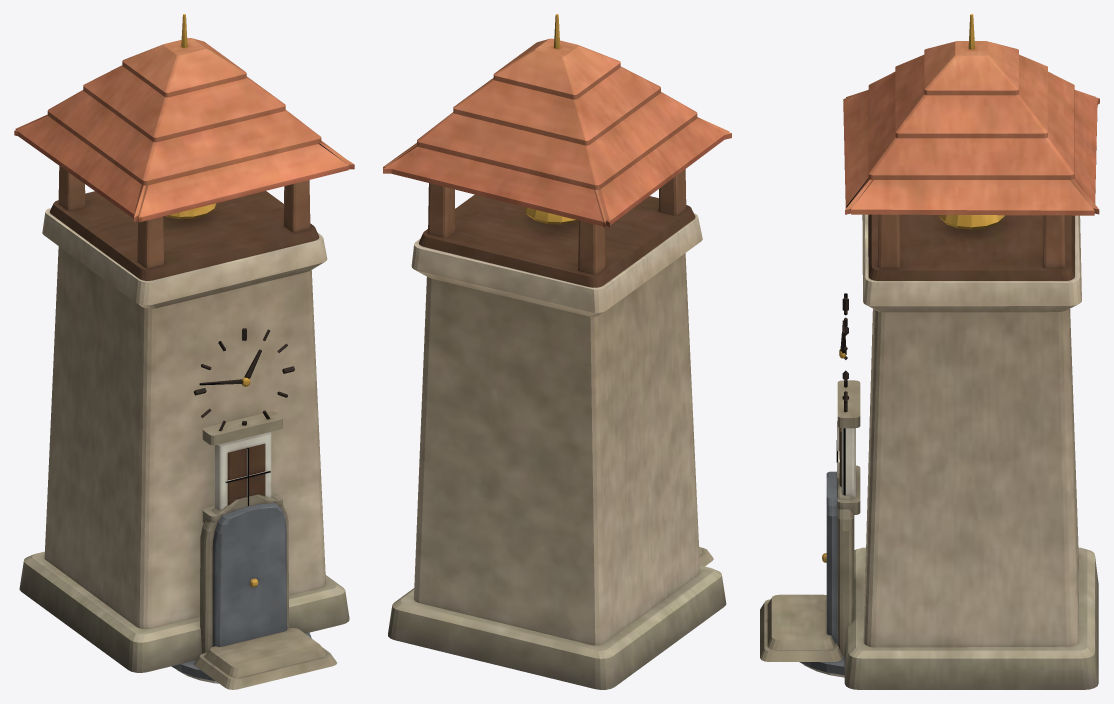
Rendered from clock_house.glb.
The picture shows the model from 3 angles, left to right: view 1: azimuth 30°, elevation 25°; view 2: azimuth 150°, elevation 25°; view 3: azimuth 270°, elevation 25°; orthographic projection. The views are drawn at different scales.
Visible parts, largest first — view 1: ClockHouse; view 2: ClockHouse; view 3: ClockHouse.
Part boxes in pixels (x1=…): ClockHouse: x1=14, y1=14, x2=354, y2=689; ClockHouse: x1=383, y1=14, x2=731, y2=689; ClockHouse: x1=760, y1=14, x2=1099, y2=689.
Size of the model in its own units: 2.61 by 6.78 by 3.29.
1 material, 1 textured.
